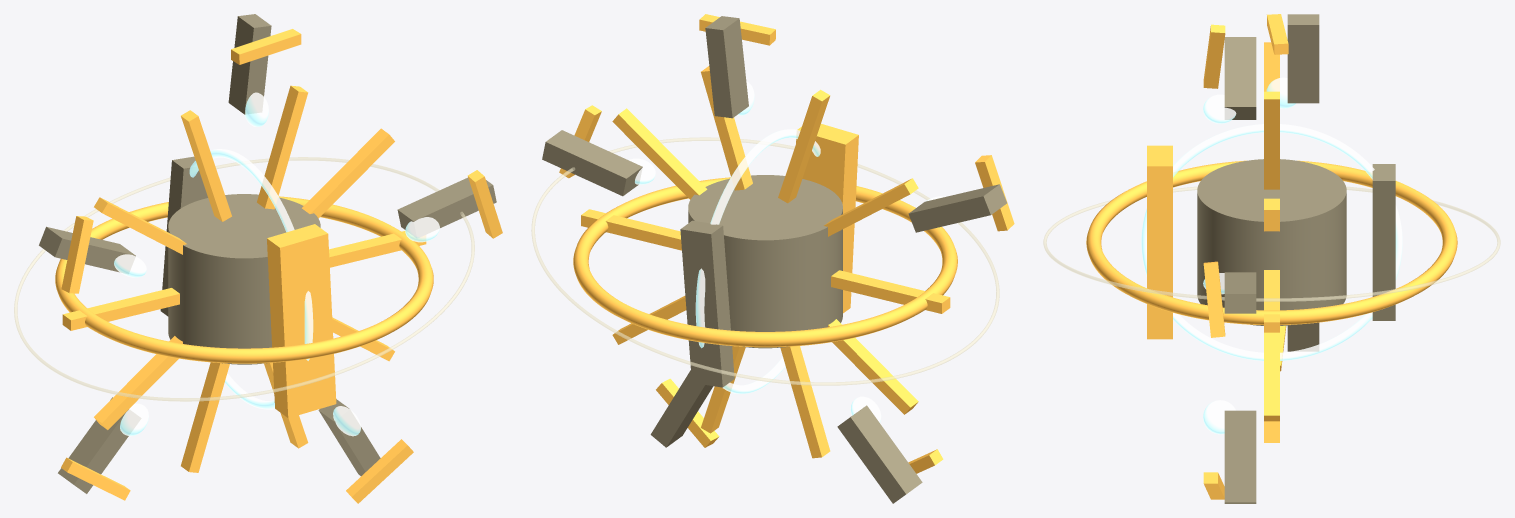
Rendered from celest-vault.glb.
3 views of the same model, side by side, from view 1: azimuth 30°, elevation 25°; view 2: azimuth 150°, elevation 25°; view 3: azimuth 270°, elevation 25° (orthographic). The views are drawn at different scales.
Visible parts, largest first — view 1: vault central cylinder, vault dorsal market spine, primary golden traffic ring, warm public concourse glow, vault terrace 0, vault terrace 1, vault terrace 3, radial arm 2, radial arm 7, secondary canted vault halo, radial arm 1, vault terrace 4 (+19 smaller); view 2: vault central cylinder, primary golden traffic ring, vault lower drydock rail, vault dorsal market spine, warm public concourse glow, vault terrace 3, vault terrace 1, vault terrace 0, vault terrace 2, secondary canted vault halo, radial arm 7, radial arm 1 (+13 smaller); view 3: vault central cylinder, primary golden traffic ring, vault dorsal market spine, secondary canted vault halo, vault lower drydock rail, vault terrace 4, vault terrace 1, vault terrace 2, warm public concourse glow, radial arm 2, radial arm 9, vault terrace 0 (+9 smaller).
Boxes of the visible parts, bbox=[...] form: vault central cylinder: bbox=[168, 194, 320, 364]; vault dorsal market spine: bbox=[267, 224, 336, 418]; primary golden traffic ring: bbox=[55, 196, 433, 363]; warm public concourse glow: bbox=[14, 157, 474, 401]; vault terrace 0: bbox=[397, 177, 496, 237]; vault terrace 1: bbox=[228, 14, 271, 114]; vault terrace 3: bbox=[58, 397, 140, 493]; radial arm 2: bbox=[257, 85, 308, 209]; radial arm 7: bbox=[181, 362, 229, 472]; secondary canted vault halo: bbox=[189, 149, 313, 409]; radial arm 1: bbox=[302, 128, 394, 218]; vault terrace 4: bbox=[318, 399, 380, 475]; vault central cylinder: bbox=[688, 175, 842, 348]; primary golden traffic ring: bbox=[573, 177, 957, 347]; vault lower drydock rail: bbox=[680, 220, 734, 387]; vault dorsal market spine: bbox=[796, 123, 858, 313]; warm public concourse glow: bbox=[531, 137, 999, 385]; vault terrace 3: bbox=[837, 405, 922, 503]; vault terrace 1: bbox=[705, 16, 748, 118]; vault terrace 0: bbox=[542, 130, 642, 196]; vault terrace 2: bbox=[908, 184, 1006, 232]; secondary canted vault halo: bbox=[695, 129, 820, 393]; radial arm 7: bbox=[780, 346, 830, 458]; radial arm 1: bbox=[612, 108, 707, 199]; vault central cylinder: bbox=[1197, 159, 1346, 325]; primary golden traffic ring: bbox=[1086, 160, 1457, 325]; vault dorsal market spine: bbox=[1147, 145, 1172, 339]; secondary canted vault halo: bbox=[1141, 124, 1402, 360]; vault lower drydock rail: bbox=[1372, 164, 1395, 320]; vault terrace 4: bbox=[1224, 410, 1256, 503]; vault terrace 1: bbox=[1287, 14, 1319, 103]; vault terrace 2: bbox=[1224, 37, 1256, 119]; warm public concourse glow: bbox=[1043, 186, 1500, 301]; radial arm 2: bbox=[1264, 91, 1279, 189]; radial arm 9: bbox=[1264, 332, 1279, 421]; vault terrace 0: bbox=[1224, 272, 1256, 313].
Bounding box in the file's own units: 348 × 349 × 318.
